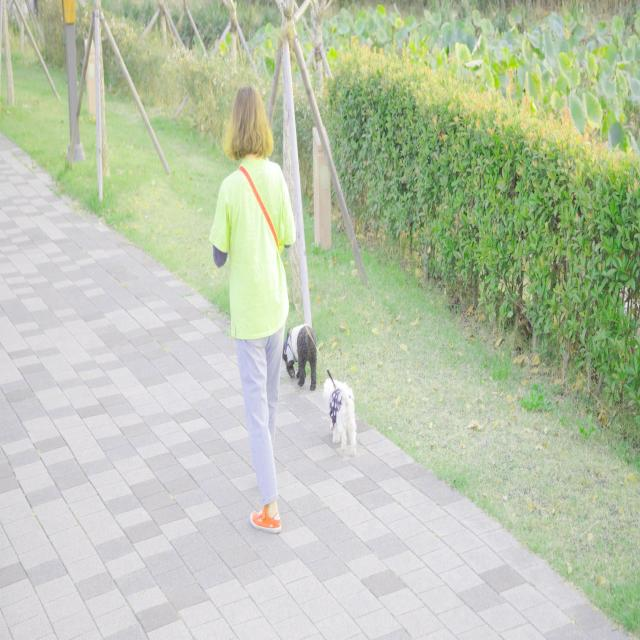Leashed_Dog: (273, 272, 356, 458), (272, 274, 316, 391)
